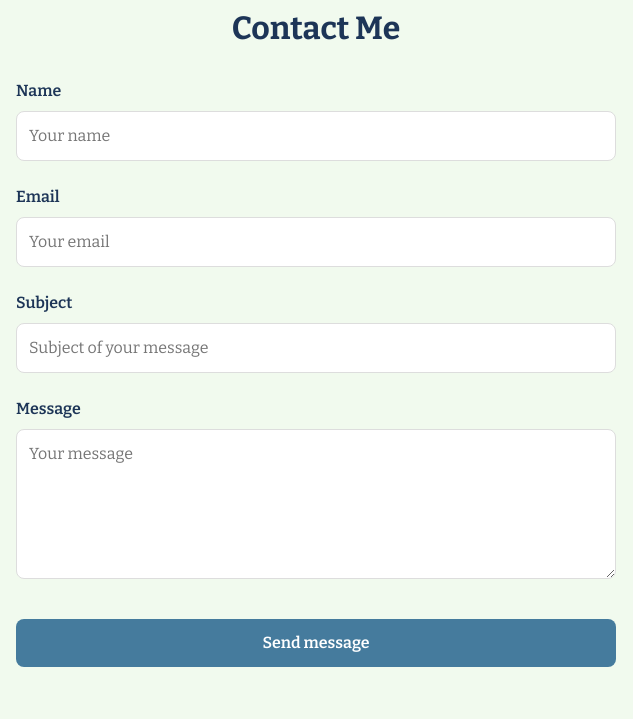
Test: ContactForm › shows validation error for invalid email
The image size is (633, 719).
Type "John Doe" into the field labelled "Name" at (316, 136), box x1=16 y1=111 x2=616 y2=161
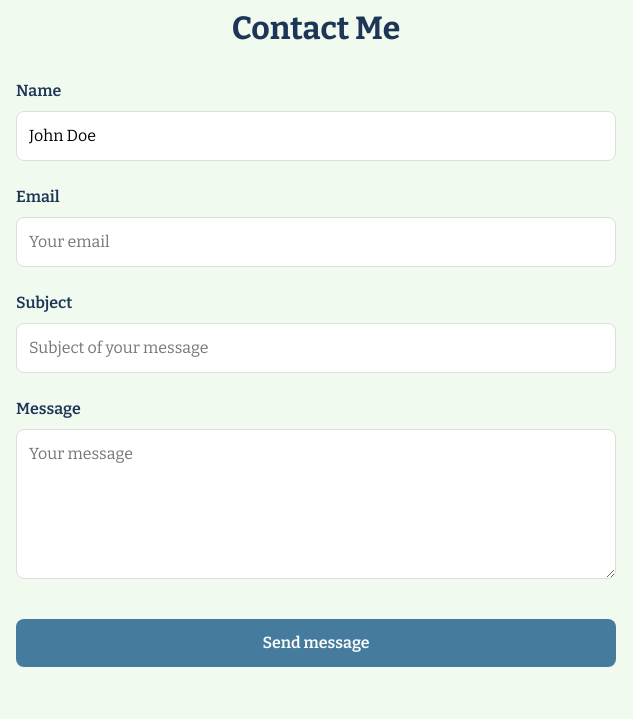
Type "invalid-email" into the field labelled "Email" at (316, 242), box x1=16 y1=217 x2=616 y2=267
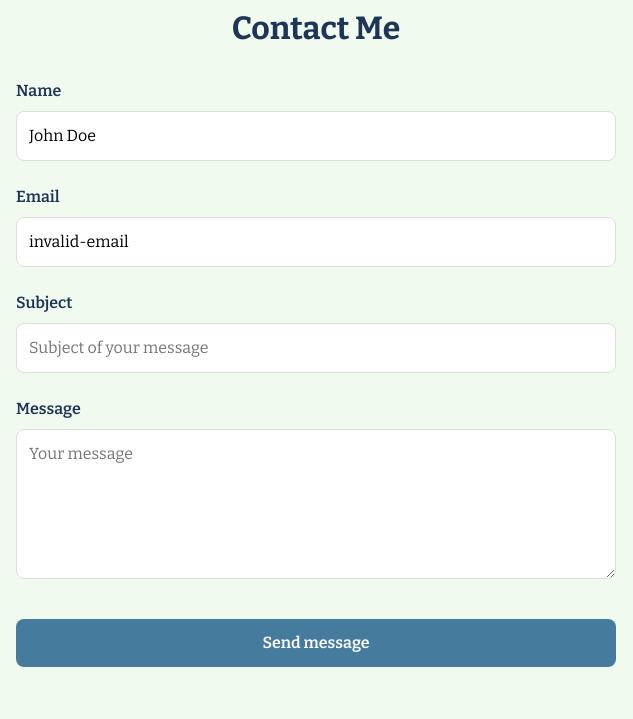
Type "Test Subject" into the field labelled "Subject" at (316, 348), box x1=16 y1=323 x2=616 y2=373
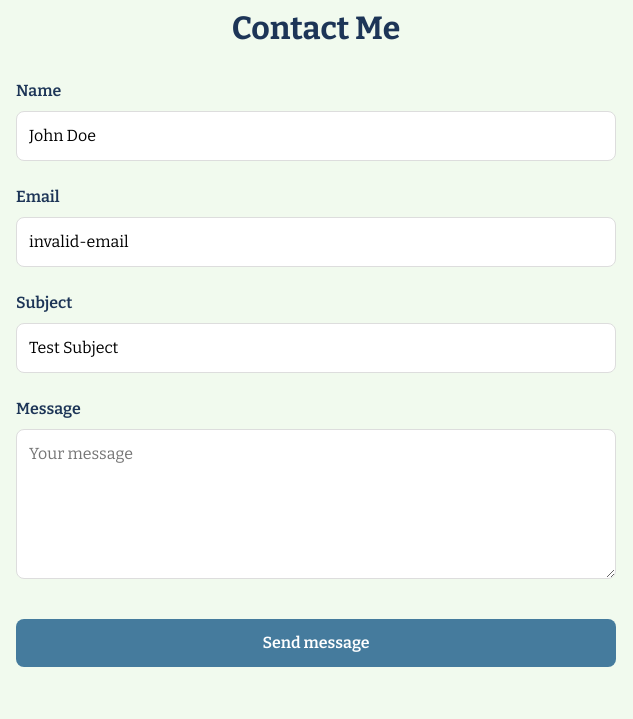
Type "This is a test message with enough characters" into the text box labelled "Message" at (316, 504), box x1=16 y1=429 x2=616 y2=579
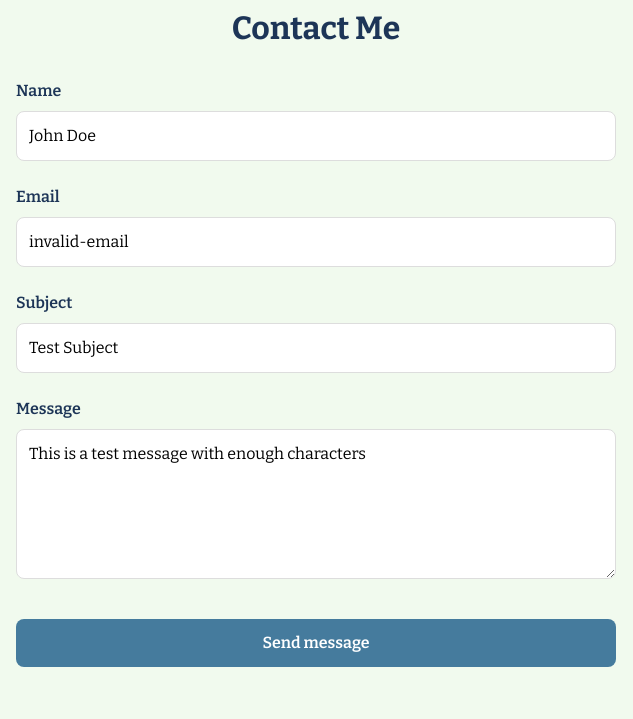
Submit the form "Name Email Subject Message Send message"
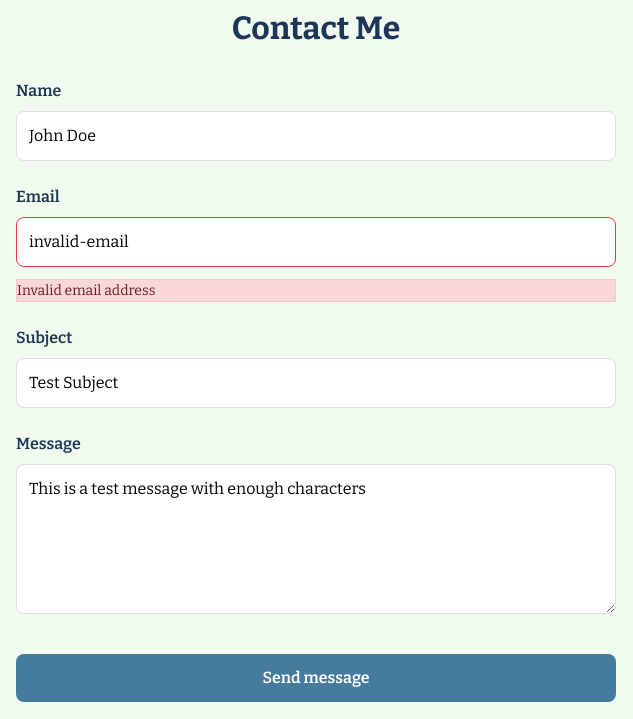
expect the text "Invalid email address" is shown: met, box x1=16 y1=279 x2=616 y2=302
